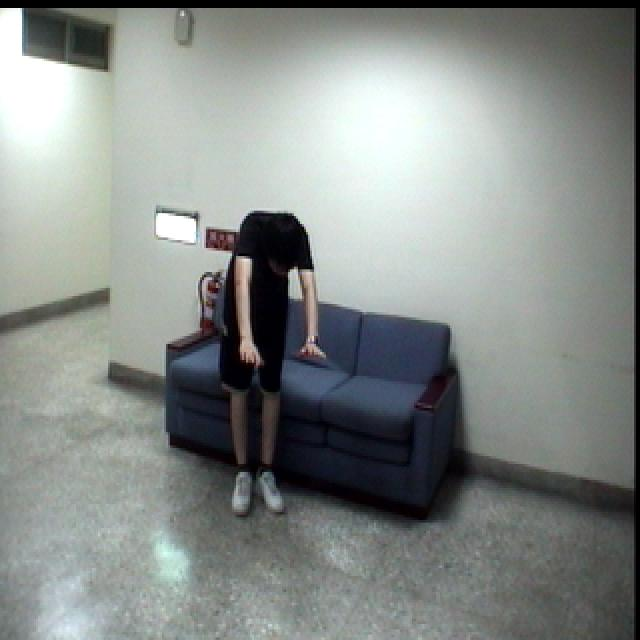bend: (210, 192, 335, 524)
